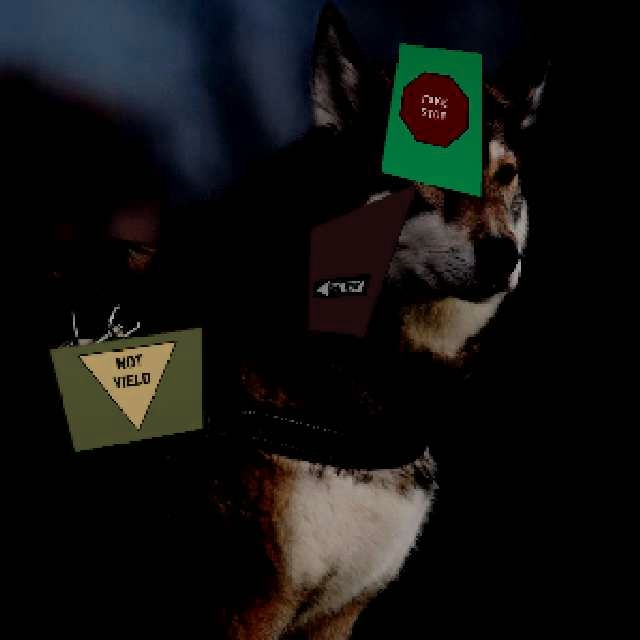FAKE_STOP: (394, 68, 474, 151)
NOT_YIELD: (76, 339, 180, 440)
ONE_WAY_ left: (312, 272, 369, 297)
